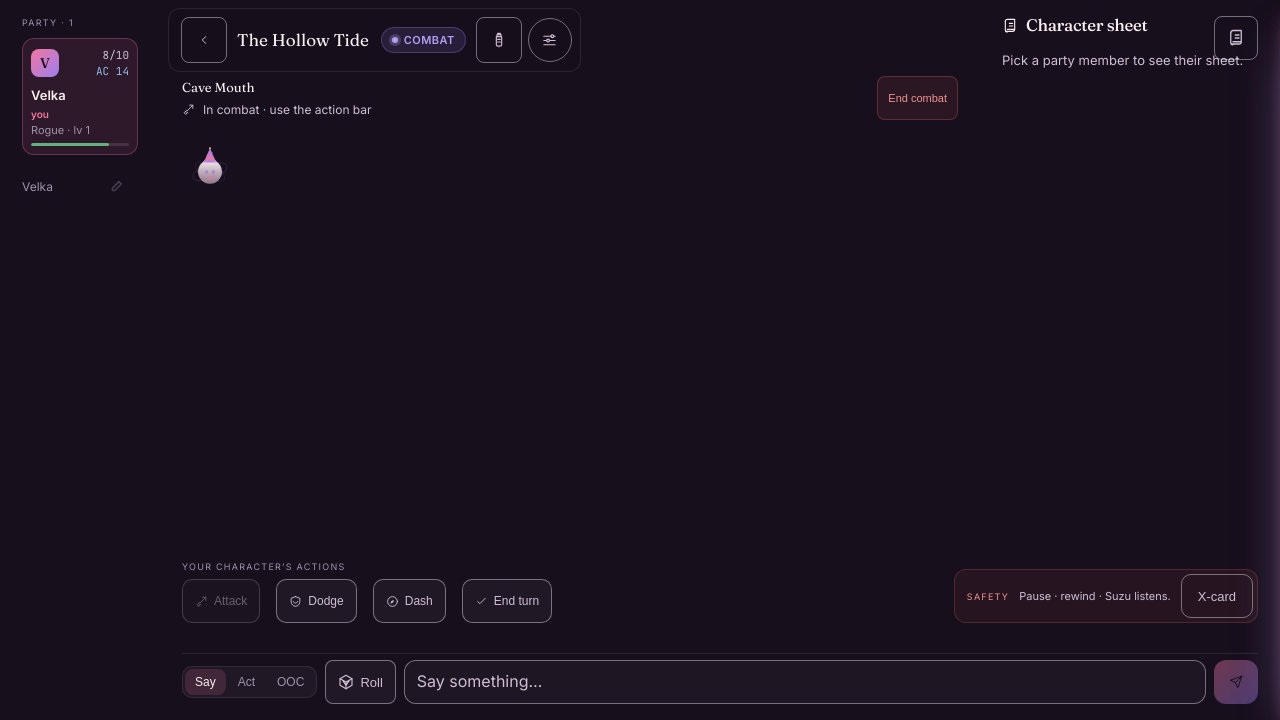
Test: end-turn already_advanced: the refused call itself changed the fight › the re-read FAILS: the answer's own state is used (no crash, no beat, the poll will correct it)
This screenshot has width=1280, height=720.
Expected: the text "The Hollow Tide" is shown, [237,27,369,53]
Click the button "End turn" at [507, 601], box [462,579,552,623]
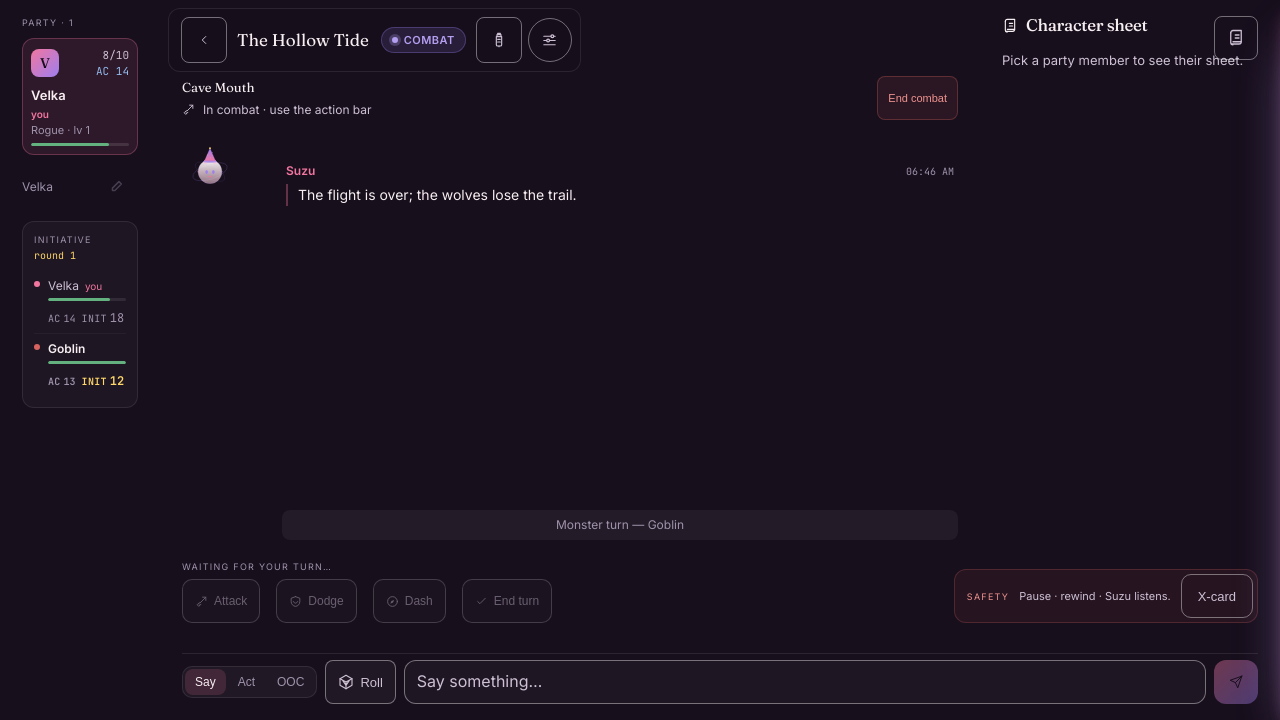
Expected: the text "The flight is over; the wolves lose the trail." is shown, [286,184,954,206]
